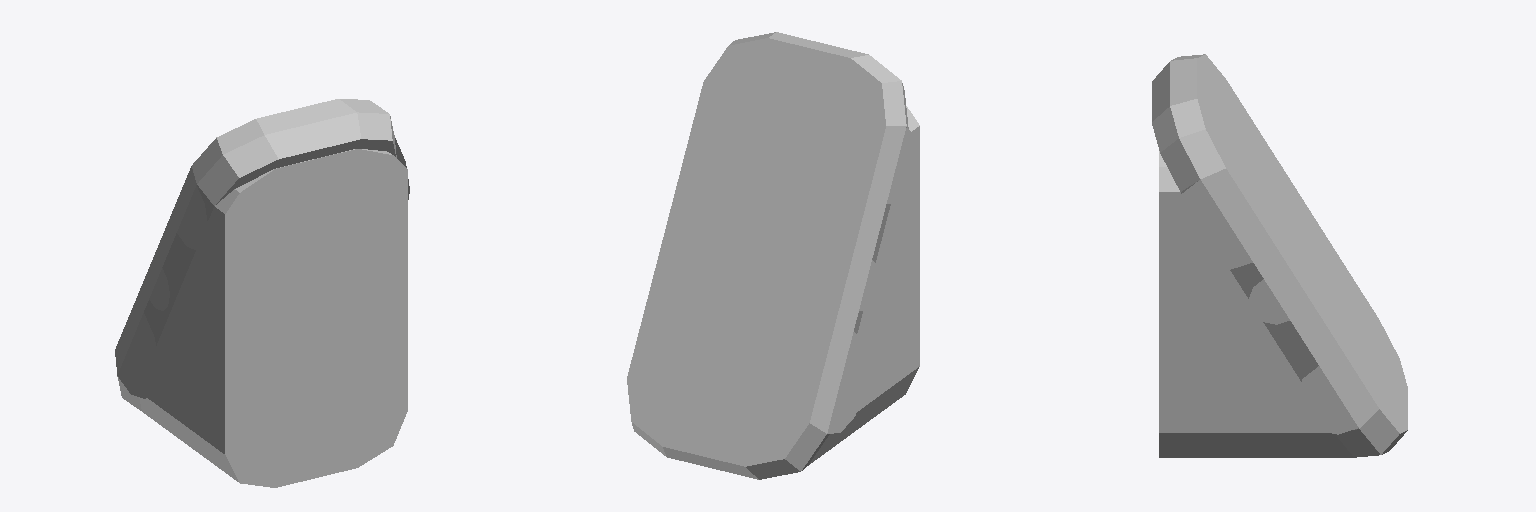
Rendered from block-snow-overhang-large-slope-steep-narrow.obj.
3 renders of one model, left to right at view 1: azimuth 30°, elevation 25°; view 2: azimuth 150°, elevation 25°; view 3: azimuth 270°, elevation 25°, orthographic.
Parts seen in each view (by area): view 1: block-snow-overhang-large-slope-steep-narrow; view 2: block-snow-overhang-large-slope-steep-narrow; view 3: block-snow-overhang-large-slope-steep-narrow.
Boxes of the visible parts, <box> form: block-snow-overhang-large-slope-steep-narrow: <box>115,99,409,487</box>; block-snow-overhang-large-slope-steep-narrow: <box>627,32,919,479</box>; block-snow-overhang-large-slope-steep-narrow: <box>1152,54,1407,457</box>.
Bounding box in the file's own units: 1.08 × 1.86 × 1.22.